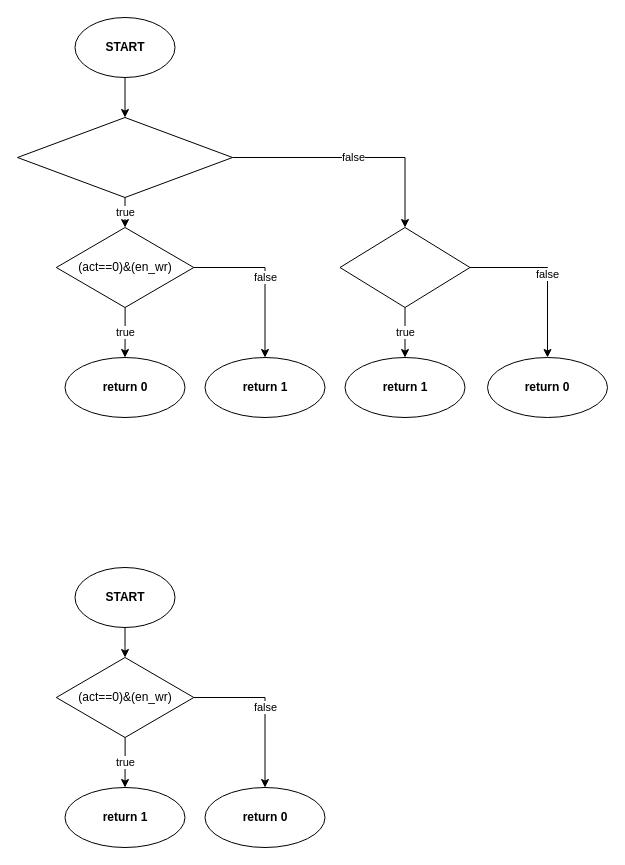
Some shapes in this 625 by 865 pixel diagram are drawn without their labels. Each missing label, with the box of its shape:
en_rd?: (339, 226, 470, 308)
write address == read address?: (16, 116, 232, 198)
